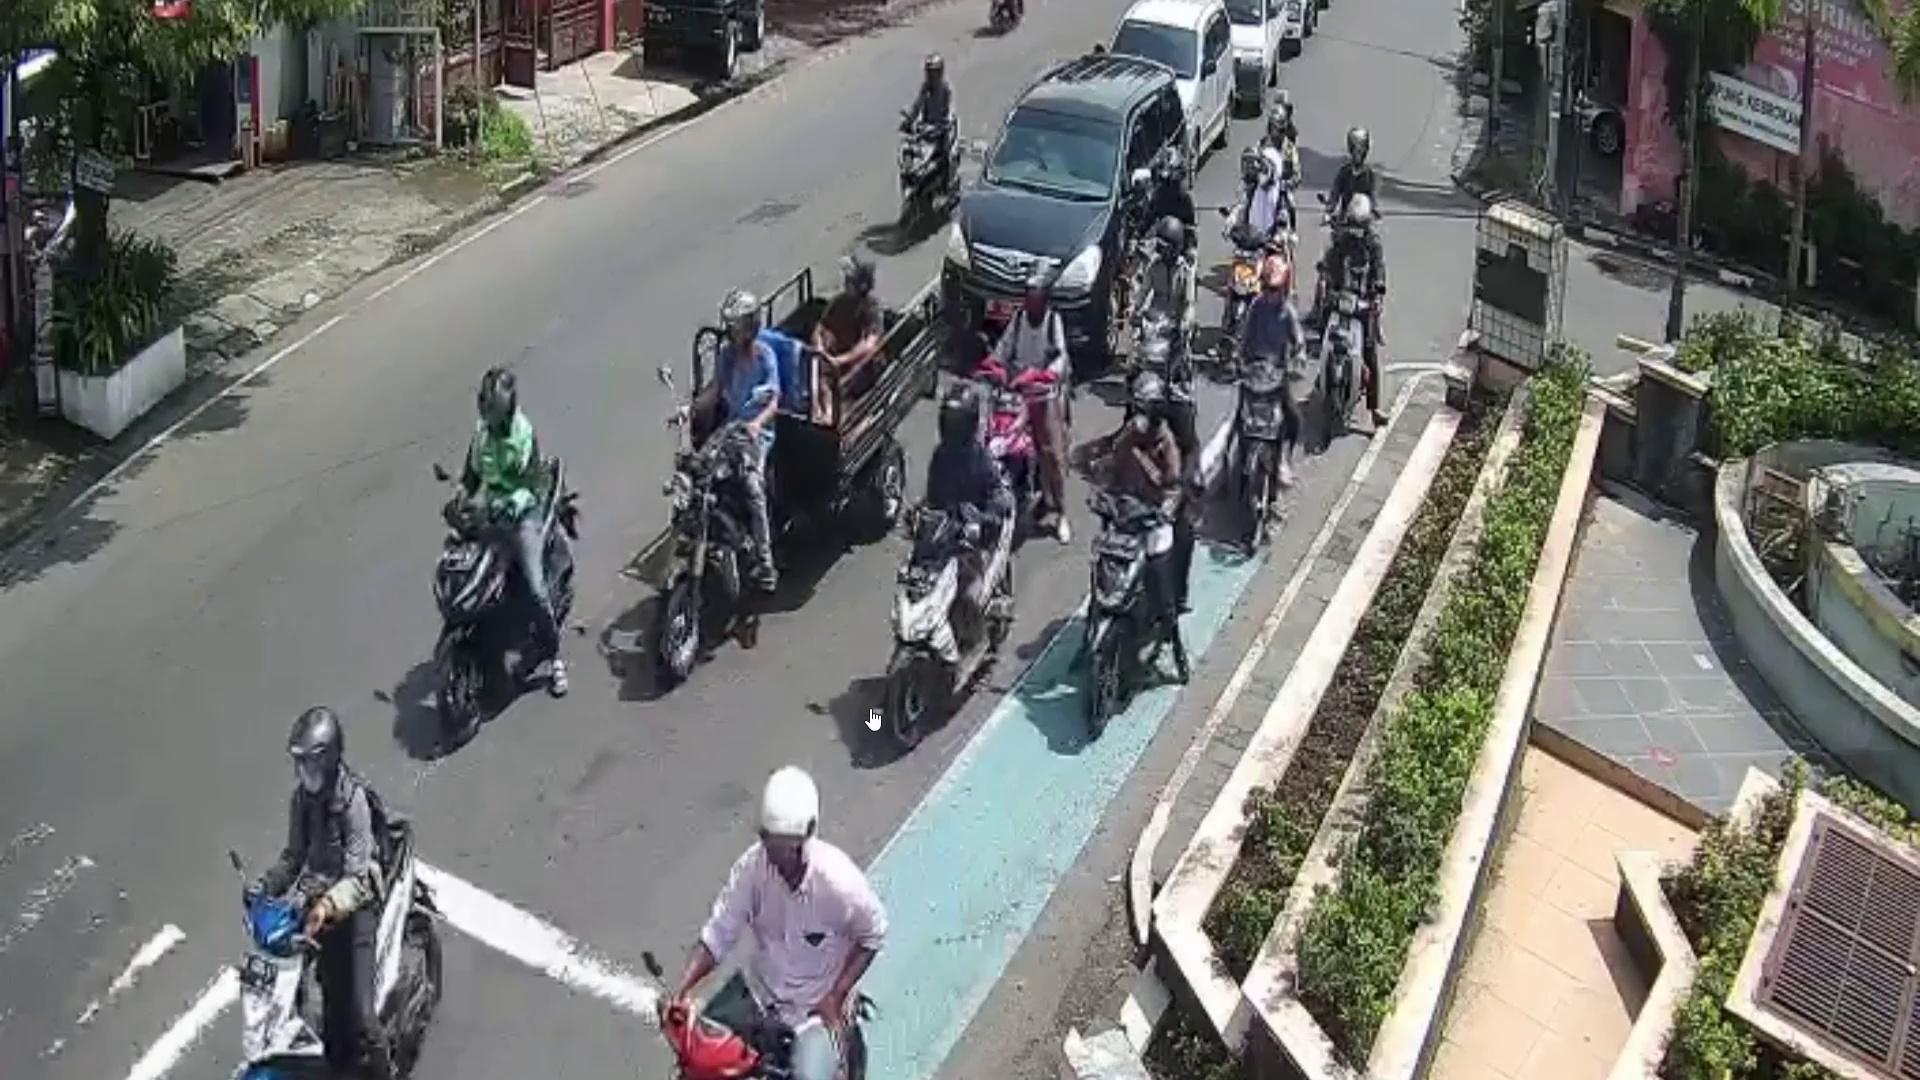car: (952, 50, 1188, 360), (1105, 0, 1241, 160)
motorbike: (237, 816, 440, 1080), (438, 454, 568, 745), (884, 456, 1010, 752), (646, 447, 774, 699), (1089, 485, 1176, 740), (1221, 359, 1280, 562), (893, 107, 960, 240), (1324, 285, 1370, 443)
